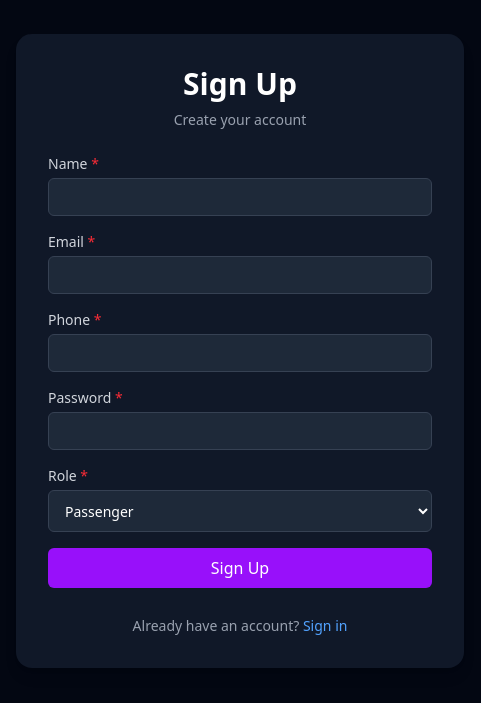
Test: SignUp Component Tests › displays success message after successful registration
In the field with test id "signup-name": (240, 197) left=48, top=178, right=432, bottom=216, type "Test User"
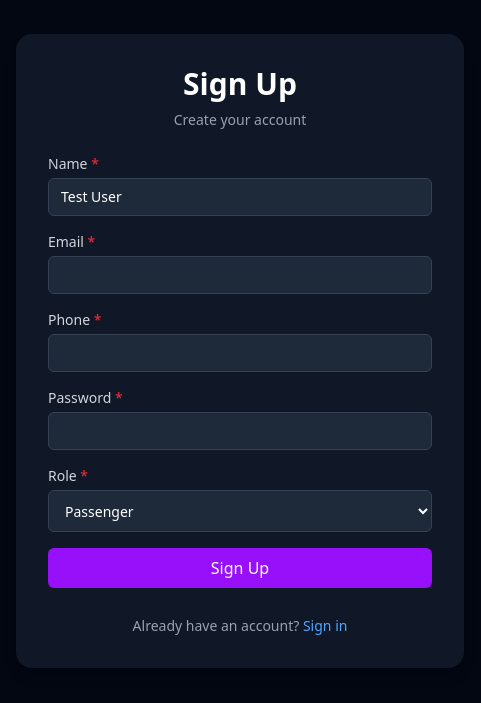
In the field with test id "signup-email": (240, 275) left=48, top=256, right=432, bottom=294, type "test@example.com"
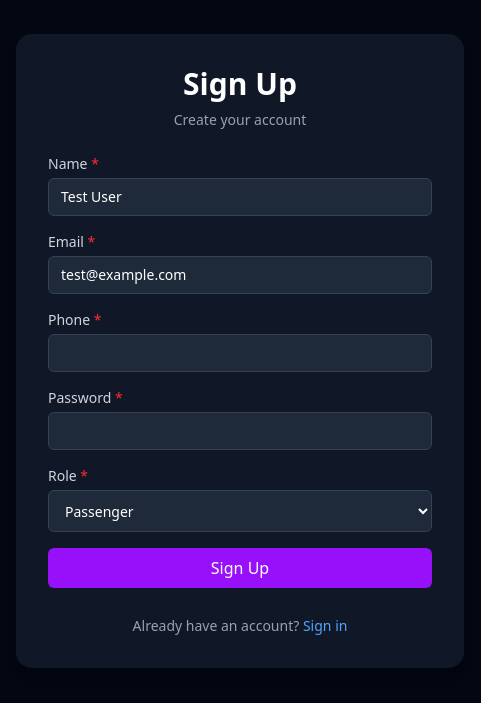
In the field with test id "signup-phone": (240, 353) left=48, top=334, right=432, bottom=372, type "1234567890"
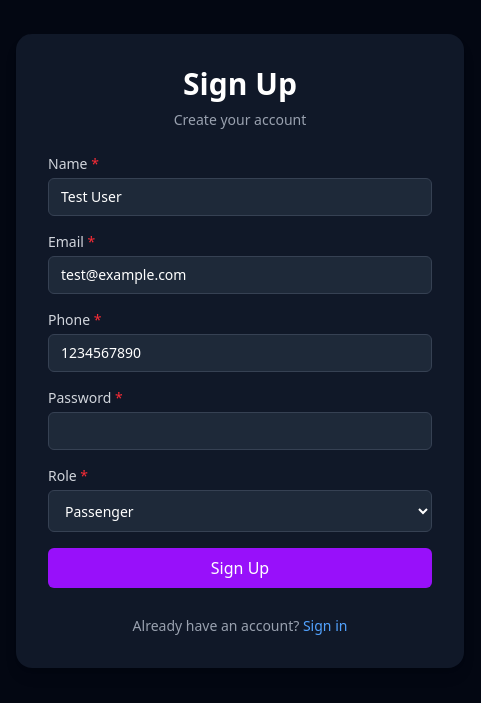
In the password field with test id "signup-password": (240, 431) left=48, top=412, right=432, bottom=450, type "securePass"
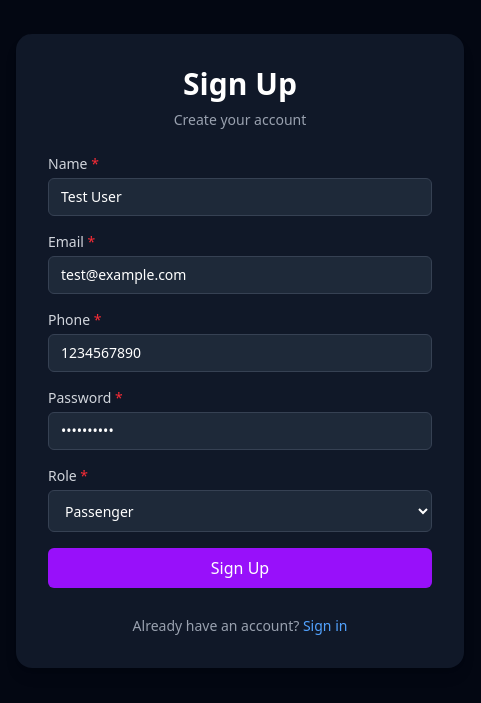
Click the button "Sign Up": click(240, 568) left=48, top=548, right=432, bottom=588
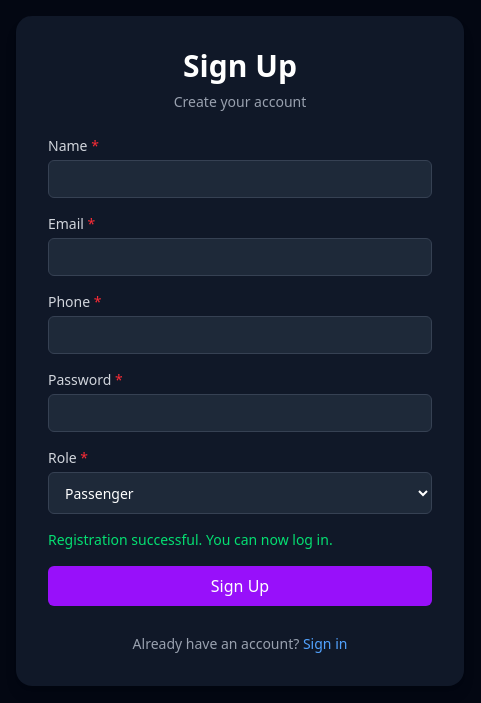
Expected: the text "Registration successful. You can now log in." is shown, left=48, top=530, right=333, bottom=549
